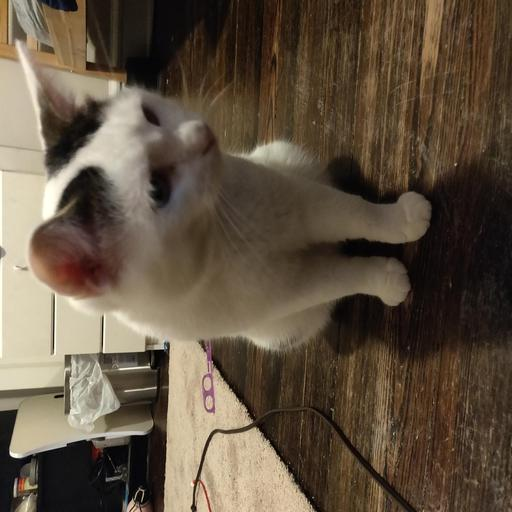cat: (15, 39, 322, 346)
